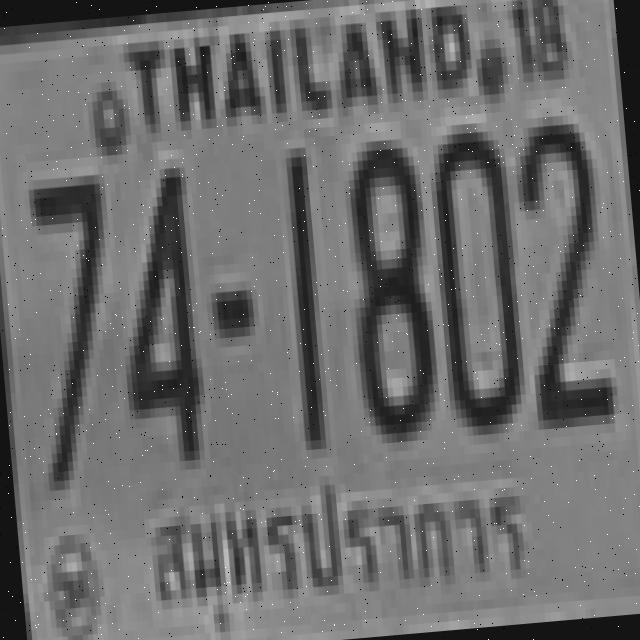0: (426, 121, 522, 428)
1: (278, 152, 328, 446), (280, 152, 326, 445)
2: (509, 109, 612, 425)
4: (106, 162, 206, 460)
7: (19, 170, 122, 487)
8: (334, 128, 436, 436)
SamutPrakan: (143, 471, 534, 624)
